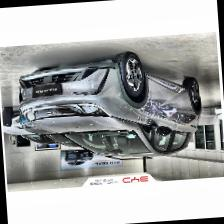EV: (17, 45, 208, 168)
